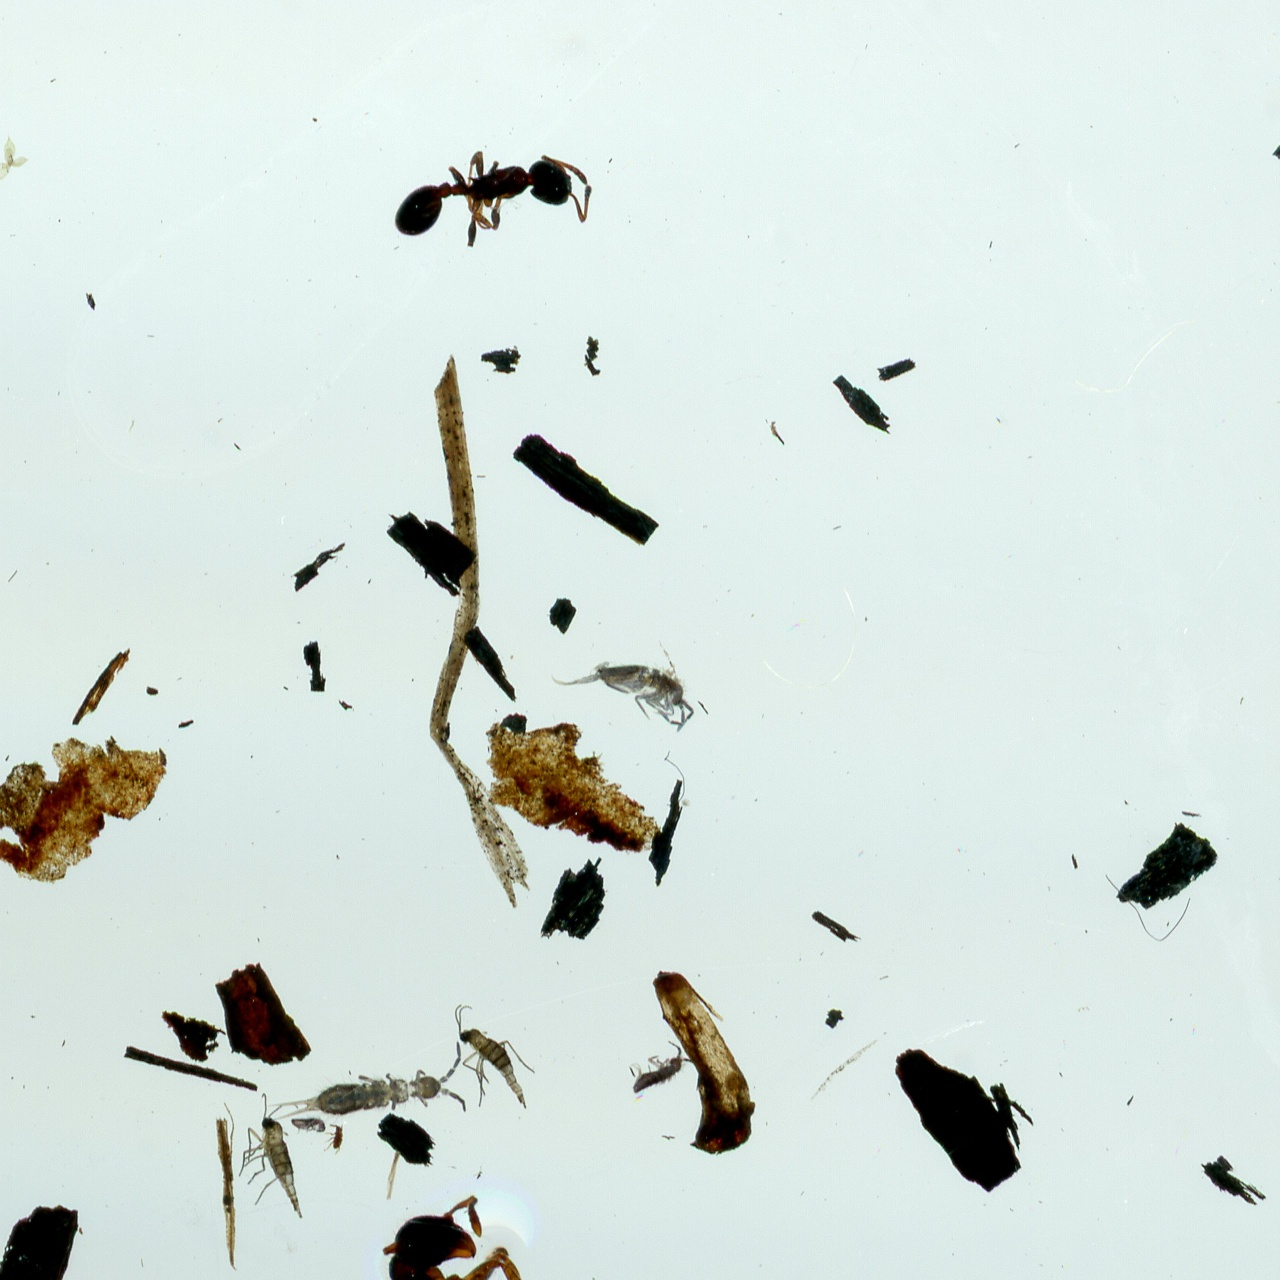arthropod: (257, 1039, 471, 1137), (392, 145, 593, 248), (545, 621, 710, 741), (217, 1083, 332, 1234), (363, 1192, 544, 1280), (452, 1003, 536, 1111), (613, 1027, 701, 1117), (324, 1124, 343, 1156), (293, 1116, 324, 1133)
